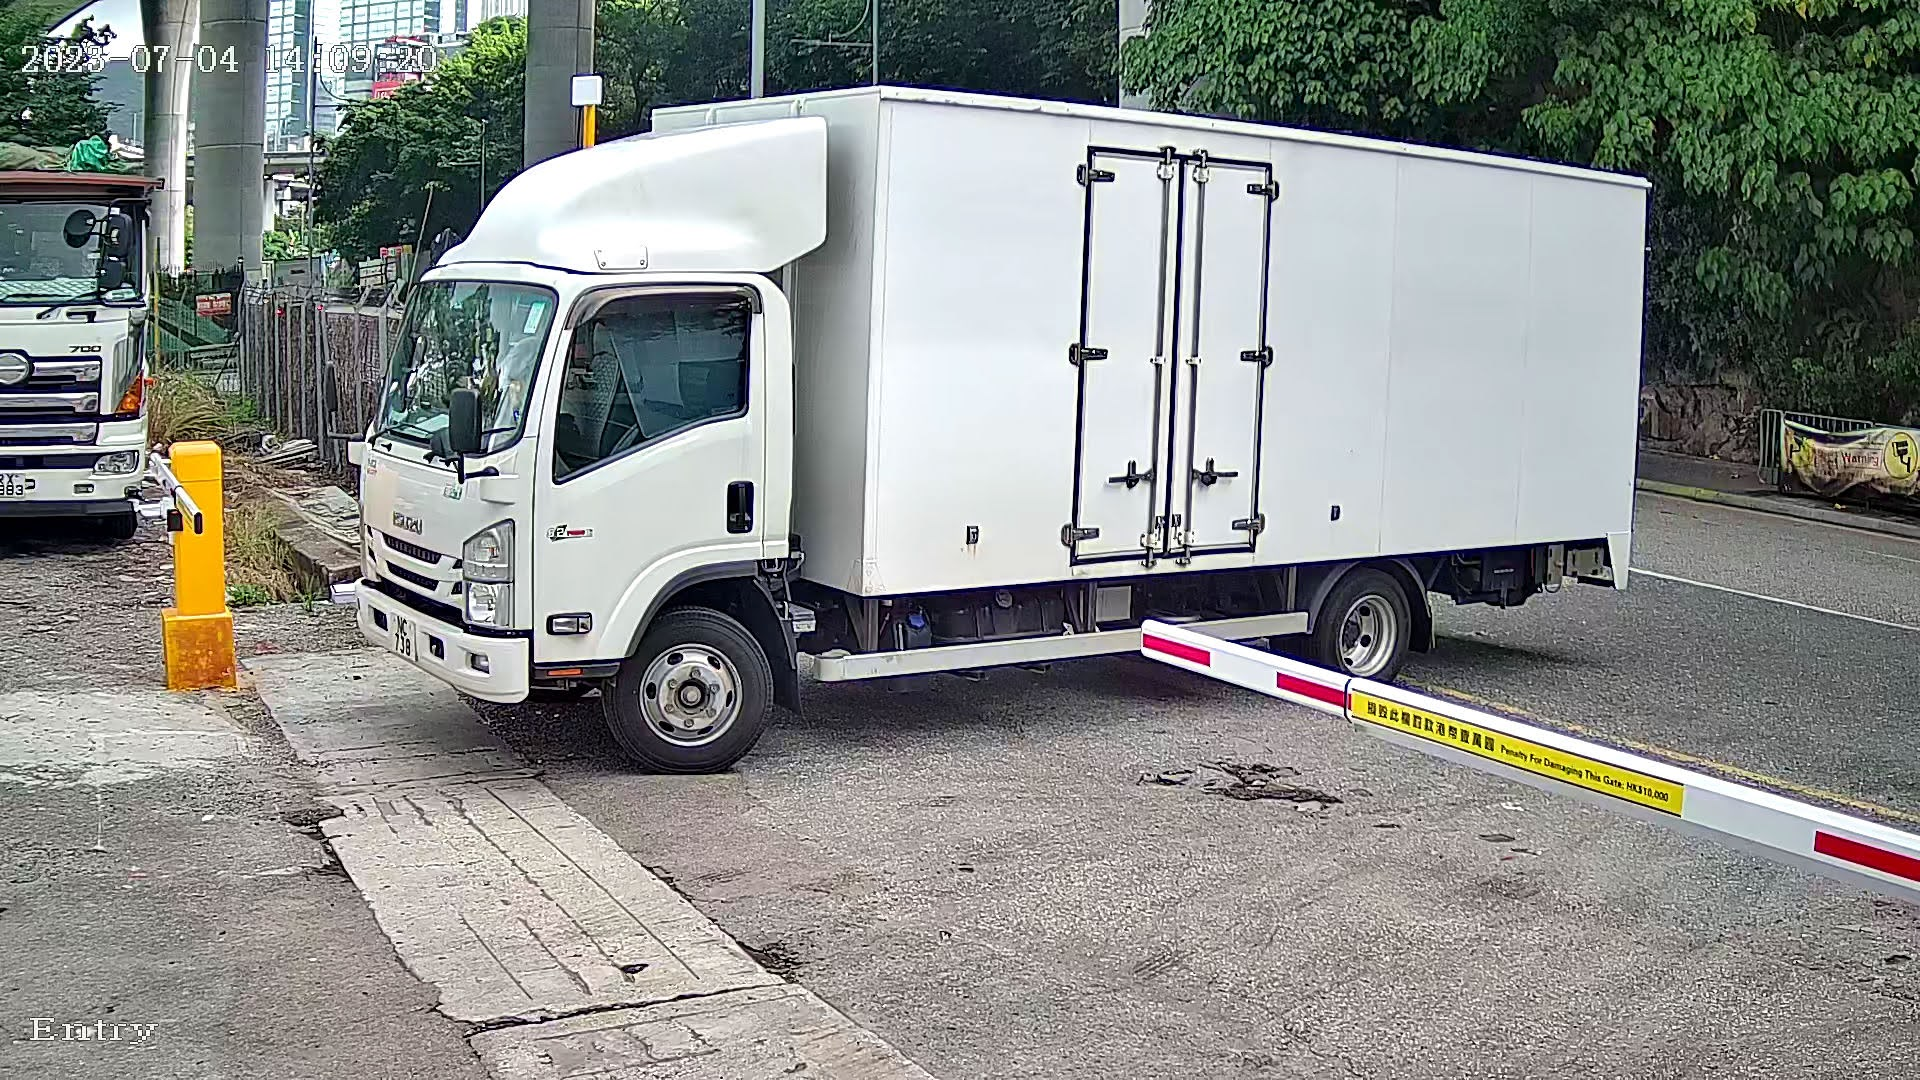truck_small: (349, 76, 1709, 769)
